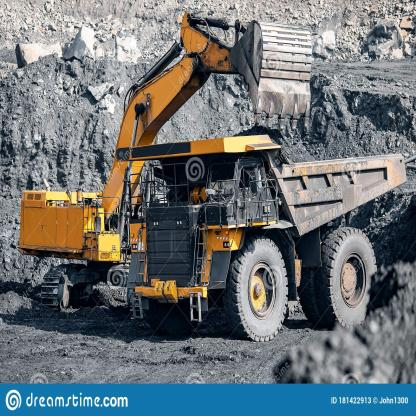dump_truck: (110, 131, 405, 333)
excavator: (14, 10, 296, 314)
